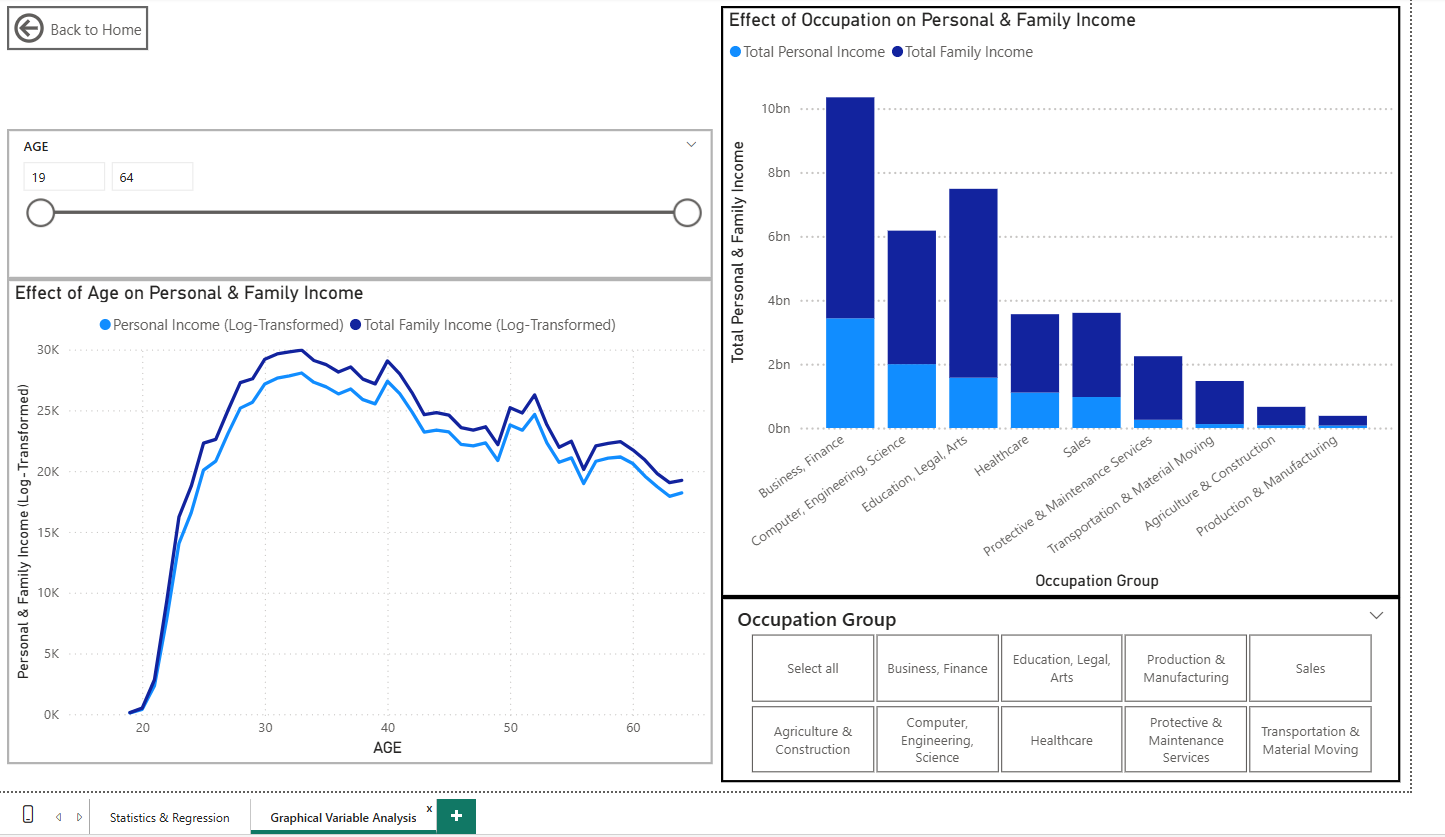

The page's visual inventory and layout, read from the dashboard file:
{"tool":"powerbi","page":{"name":"Graphical Variable Analysis","canvas":[1280,720],"ordinal":1},"visuals":[{"type":"lineChart","title":"Effect of Age on Personal & Family Income","fields":{"Y":["Sum(usa_clean (1).LOG_OF_PERSONAL_INCOME)","Sum(usa_clean (1).LOG_OF_FAMILY_INCOME)"],"Category":["usa_clean (1).AGE"]},"box":[8,256,640,440],"z":1},{"type":"columnChart","title":"Effect of Occupation on Personal & Family Income","fields":{"Y":["Sum(usa_clean (1).PERSONAL_INCOME)","Sum(usa_clean (1).FAMILY_INCOME)"],"Category":["Occupation_Lookup.Occupation Group Name"]},"box":[656,8,616,536],"z":2},{"type":"slicer","fields":{"Values":["usa_clean (1).AGE"]},"box":[8,120,640,136],"z":3},{"type":"slicer","fields":{"Values":["Occupation_Lookup.Occupation Group Name"]},"box":[656,544,616,168],"z":4},{"type":"actionButton","box":[8,8,128,40],"z":5}]}

Visuals, with their boxes on the page's 1280x720 design canvas (x1, y1, x2, y2). These are canvas units, not pixel positions in the 1445x837 screenshot, which may show the page scaled, cropped or inside an application window:
"Effect of Age on Personal & Family Income" lineChart: <region>8, 256, 648, 696</region>
"Effect of Occupation on Personal & Family Income" columnChart: <region>656, 8, 1272, 544</region>
slicer - usa_clean (1).AGE: <region>8, 120, 648, 256</region>
slicer - Occupation_Lookup.Occupation Group Name: <region>656, 544, 1272, 712</region>
actionButton: <region>8, 8, 136, 48</region>
